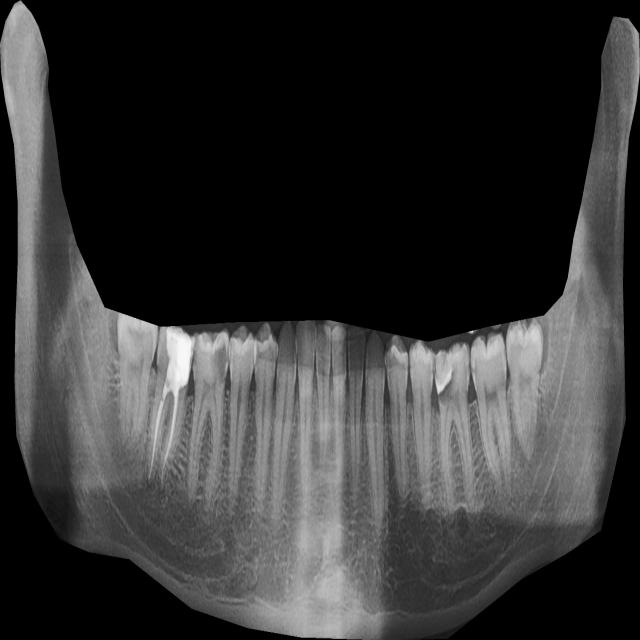mandibula: (0, 0, 640, 640)
